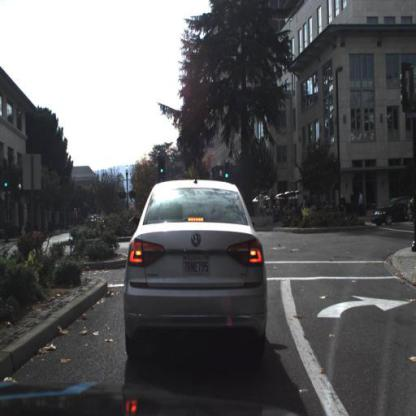car: (120, 181, 275, 362), (372, 198, 416, 231)
pedestrian: (72, 206, 81, 224)
trafficLight-Green: (158, 154, 167, 177), (4, 174, 13, 195), (3, 173, 11, 196), (224, 162, 231, 183)
trafficLight-Red: (160, 157, 166, 178)
